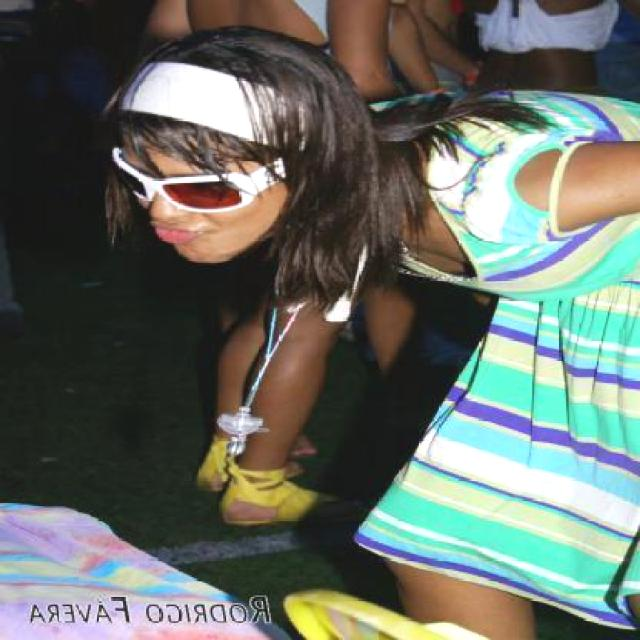face_nomask: (127, 154, 255, 252)
glasses: (105, 144, 290, 213)
head_nohelmet: (98, 30, 338, 158)
person: (100, 52, 640, 640)
